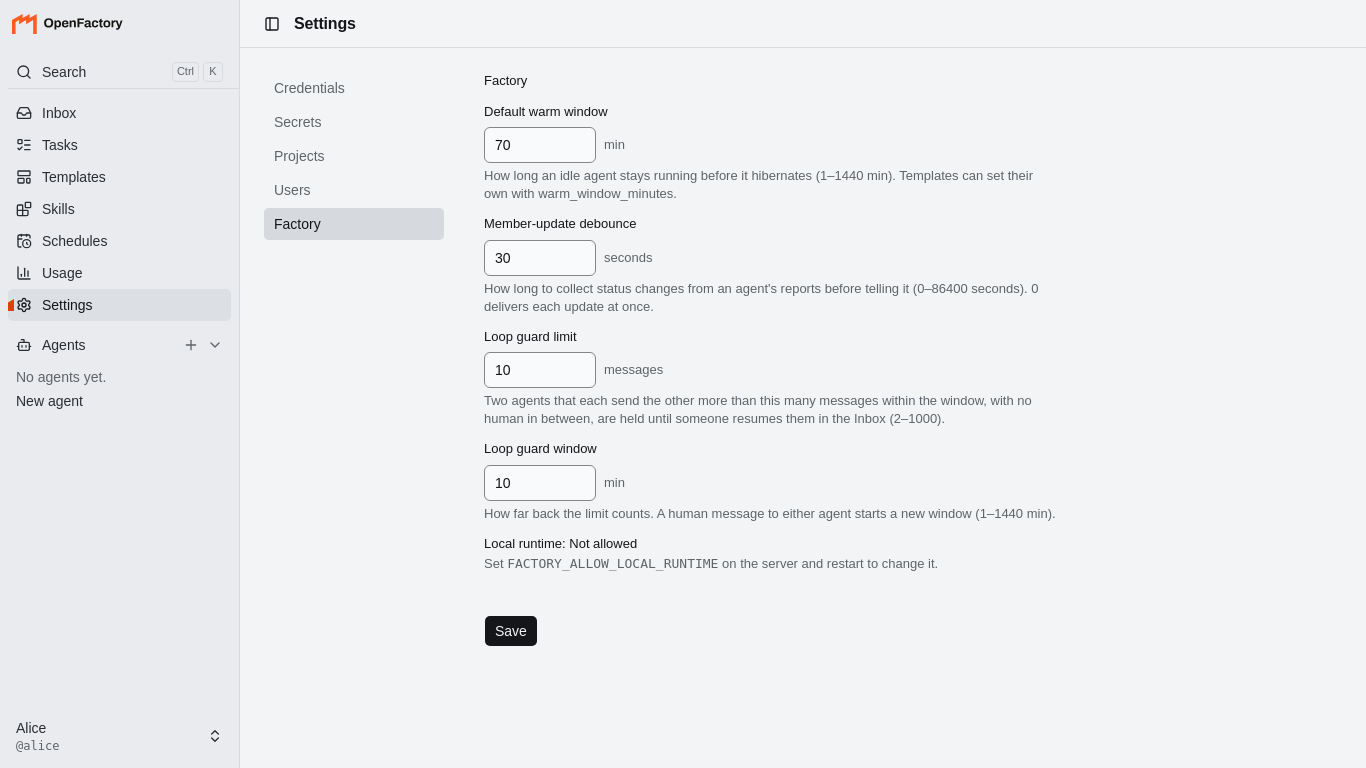
it: a settings_changed frame while dirty shows the conflict notice; Reload takes the new values
The image size is (1366, 768).
Replace the text in the number field labelled "Default warm window" with "100" at [540, 145], box [484,127,596,163]
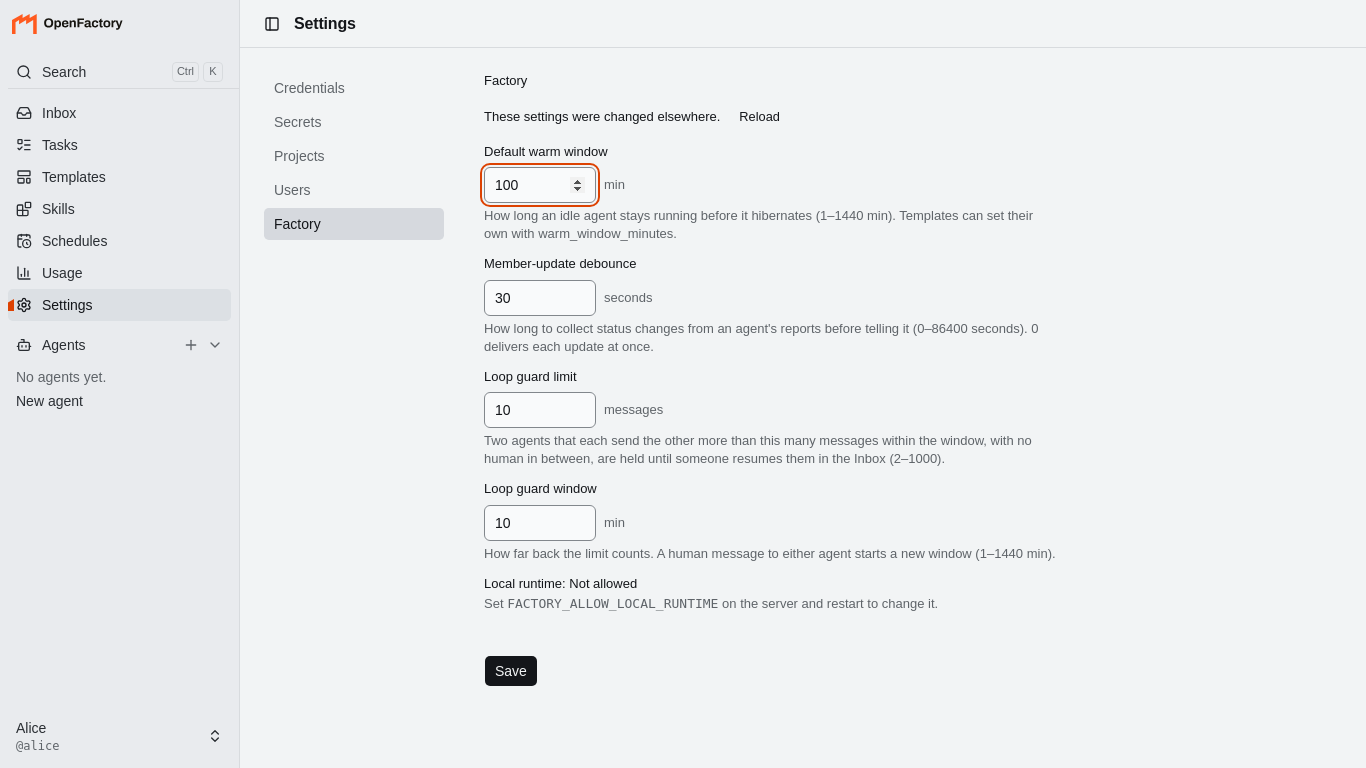
Expected: the text "These settings were changed elsewhere." is shown, [484,108,720,126]
Click the button "Reload" at [760, 117], box [728,103,791,131]
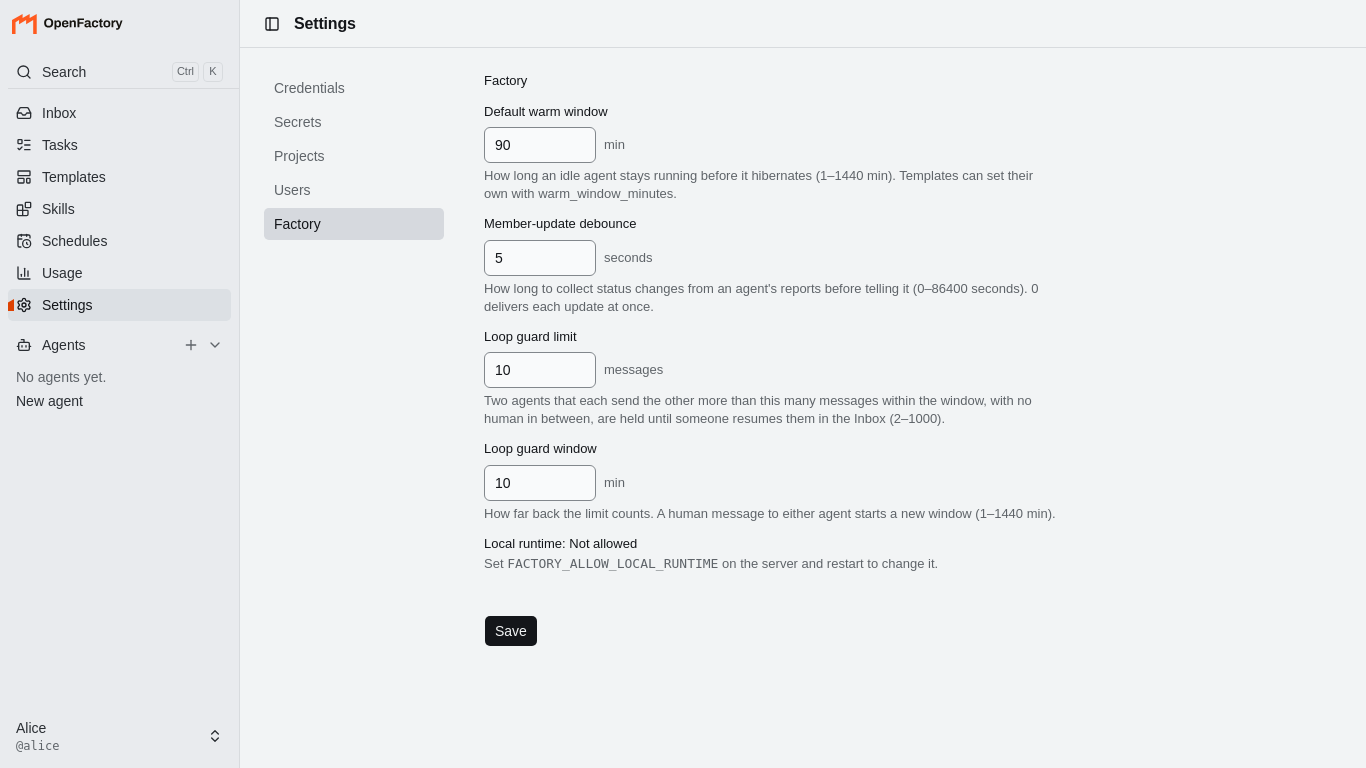
Expected: the number field labelled "Default warm window" holds "90", [484,127,596,163]
Expected: the number field labelled "Member-update debounce" holds "5", [484,240,596,276]
Expected: the text "These settings were changed elsewhere." is gone
